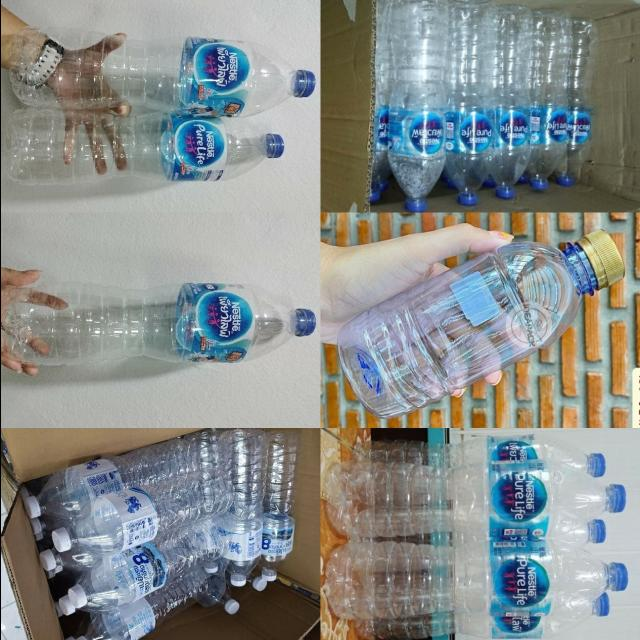plastik: (336, 229, 624, 417), (6, 26, 314, 117), (2, 281, 313, 364), (324, 457, 624, 539), (325, 540, 627, 620), (6, 108, 283, 185), (24, 429, 222, 519), (58, 516, 231, 614), (51, 469, 233, 555), (388, 0, 447, 210), (353, 593, 609, 640), (443, 0, 498, 205), (353, 434, 605, 477), (86, 563, 226, 640), (524, 10, 571, 190), (489, 6, 532, 199), (219, 429, 267, 587), (554, 20, 598, 186), (261, 433, 298, 563)
